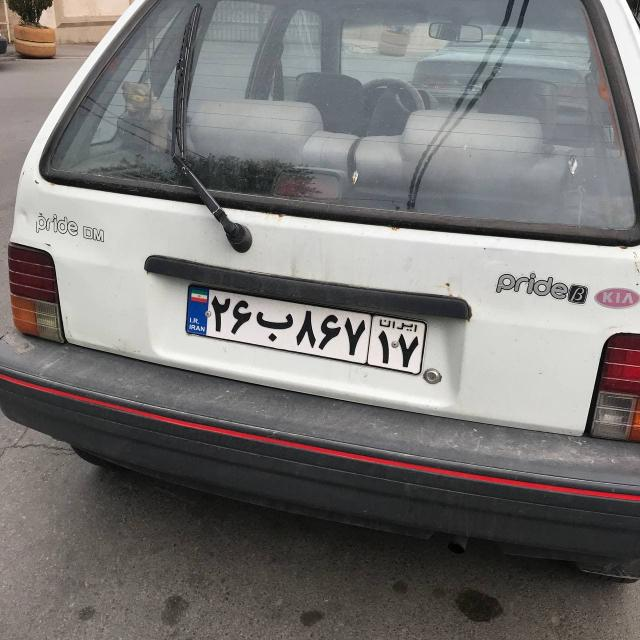Plates: (181, 286, 428, 374)
